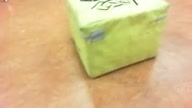cube: (66, 1, 170, 80)
